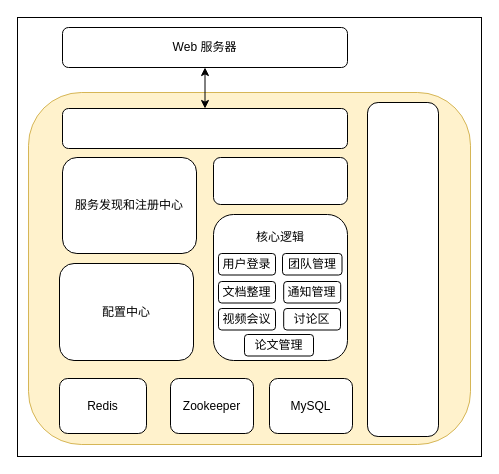
Image size: 499x474. Some labels were removed from this diagram. The shapes that lost their labels are listed below. From the top down, each one's centre as x and y in pixels, then its label:
the point at 205,128: API 网关
the point at 280,180: 用户接入系统
the point at 402,269: 链路追踪
